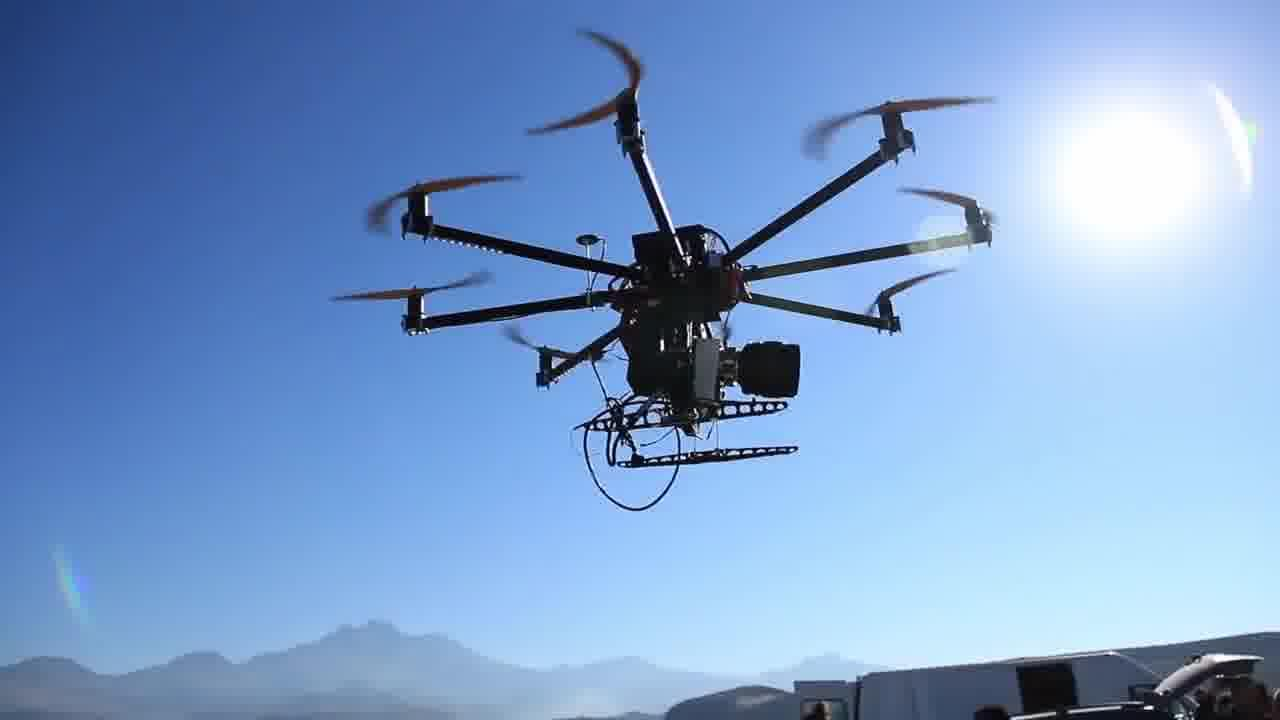drone: (357, 20, 857, 470)
